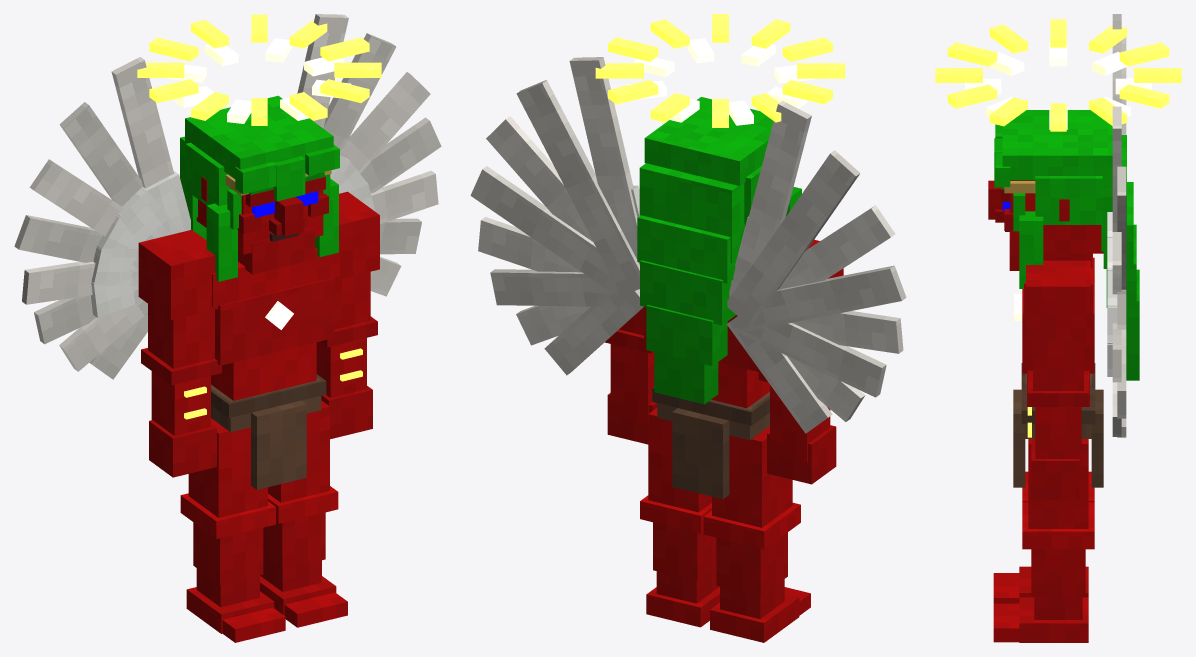
File: angel_s0_evo2.glb
3 views of the same model, side by side, from view 1: azimuth 30°, elevation 25°; view 2: azimuth 150°, elevation 25°; view 3: azimuth 270°, elevation 25° (orthographic). The views are drawn at different scales.
Parts seen in each view (by area): view 1: Torso, Head, ArmR, LegR, LegL, ArmL; view 2: Torso, Head, LegR, LegL, ArmL, ArmR; view 3: Head, ArmL, LegL, Torso, LegR.
Part boxes in pixels (bbox=[...]): Torso: bbox=[14, 14, 441, 489]; Head: bbox=[137, 14, 381, 281]; ArmR: bbox=[138, 229, 221, 477]; LegR: bbox=[180, 418, 285, 642]; LegL: bbox=[260, 400, 347, 627]; ArmL: bbox=[316, 191, 379, 439]; Torso: bbox=[470, 57, 906, 499]; Head: bbox=[595, 14, 845, 404]; LegR: bbox=[703, 426, 810, 642]; LegL: bbox=[640, 408, 719, 627]; ArmL: bbox=[604, 307, 657, 444]; ArmR: bbox=[758, 239, 843, 484]; Head: bbox=[935, 19, 1181, 380]; ArmL: bbox=[1026, 260, 1090, 500]; LegL: bbox=[993, 439, 1094, 642]; Torso: bbox=[1013, 14, 1126, 487]; LegR: bbox=[993, 471, 1094, 603].
Bounding box in the file's own units: 1.63 × 2.02 × 0.8184.
Materials: 28 (28 with a texture image).
